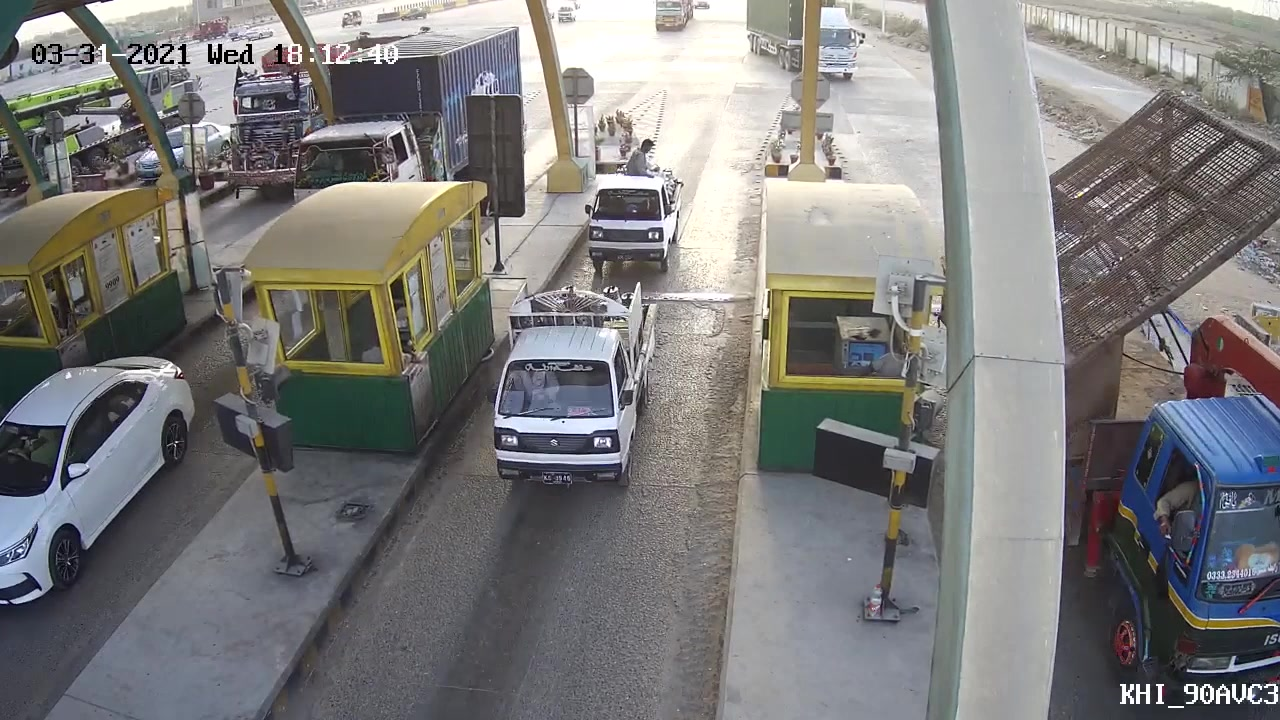F1: (486, 276, 662, 493), (573, 147, 691, 278)
